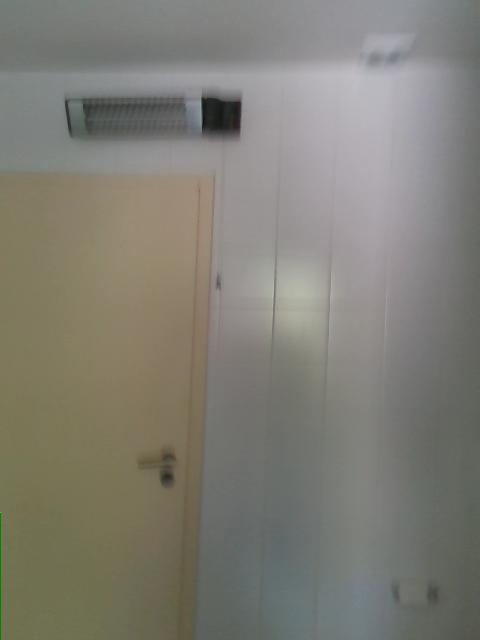door: (0, 168, 213, 639)
